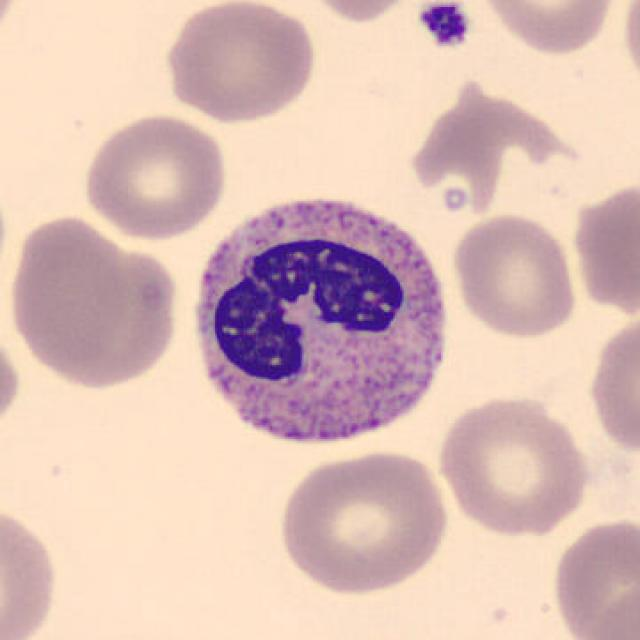Monocyte: (181, 180, 459, 467)
Platelets: (416, 0, 475, 51)
RBC: (272, 446, 452, 598), (434, 391, 594, 538), (3, 210, 134, 381), (37, 238, 183, 391), (158, 0, 322, 125), (78, 110, 231, 242), (448, 210, 581, 340), (548, 513, 638, 640), (569, 173, 638, 321), (0, 497, 64, 640), (474, 0, 620, 58), (585, 308, 638, 464), (578, 573, 638, 640), (297, 0, 423, 26), (0, 319, 25, 443), (618, 0, 640, 100), (0, 0, 25, 51)
